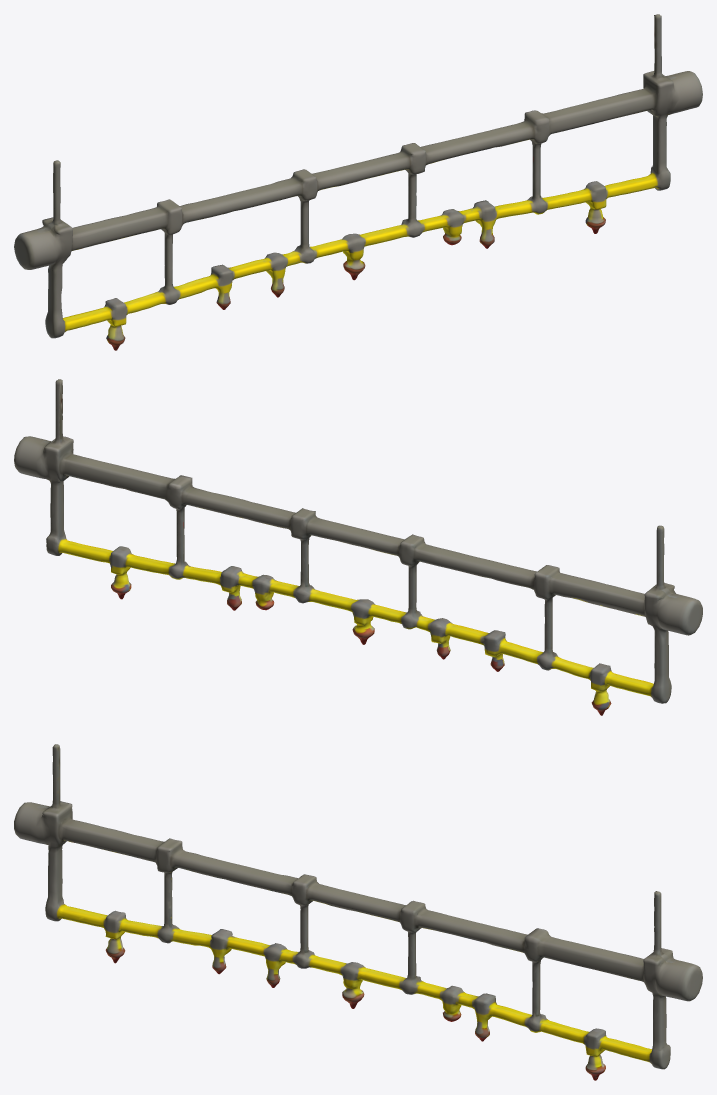
The model's file is WaterFeeder_1120161445_texture.fbx.
3 views of the same model, one above another, from view 1: azimuth 30°, elevation 25°; view 2: azimuth 150°, elevation 25°; view 3: azimuth 330°, elevation 25° (orthographic).
Parts seen in each view (by area): view 1: input; view 2: input; view 3: input.
Part boxes in pixels (x1,y1,x2,y2): input: [14, 14, 702, 350]; input: [14, 379, 702, 715]; input: [14, 744, 702, 1080].
Bounding box in the file's own units: 191 × 55.39 × 9.73.
1 material, 1 textured.
